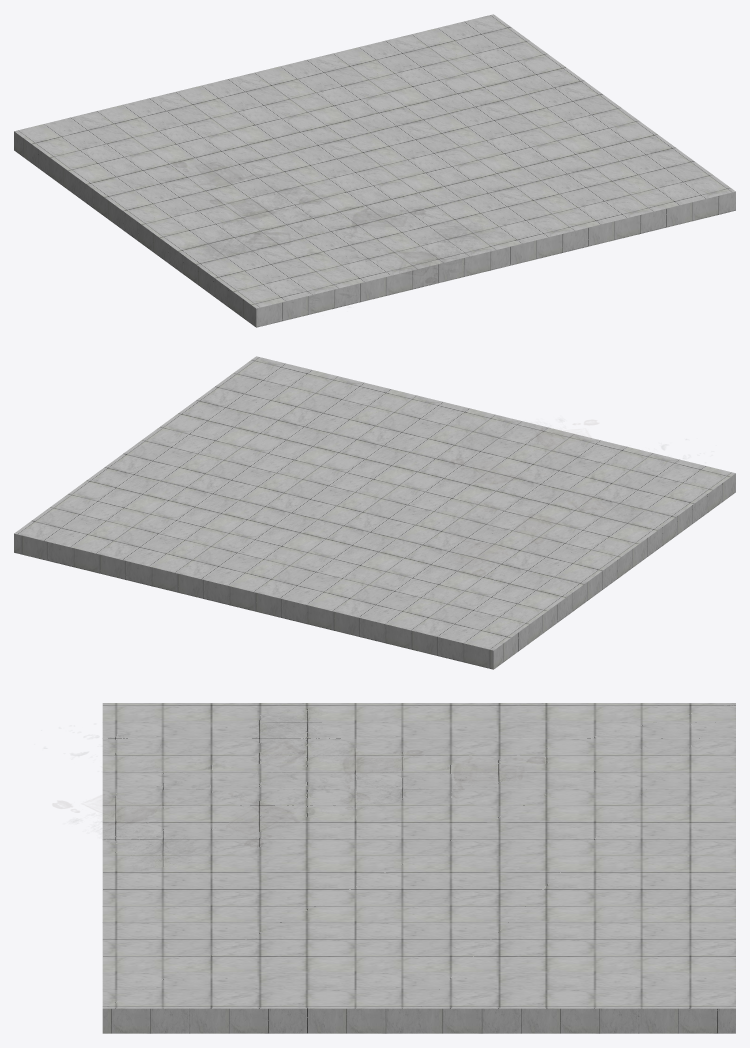
Rendered from Floor_4af48c12.obj.
3 views of the same model, one above another, from view 1: azimuth 30°, elevation 25°; view 2: azimuth 150°, elevation 25°; view 3: azimuth 270°, elevation 25° (orthographic). The views are drawn at different scales.
Parts seen in each view (by area): view 1: mesh_4307ae25; view 2: mesh_4307ae25; view 3: mesh_4307ae25.
Part boxes in pixels (left/top/right/bottom): mesh_4307ae25: left=14, top=14, right=735, bottom=327; mesh_4307ae25: left=14, top=356, right=735, bottom=669; mesh_4307ae25: left=102, top=703, right=735, bottom=1033.
Bounding box in the file's own units: 4.36 × 0.1646 × 4.28.
